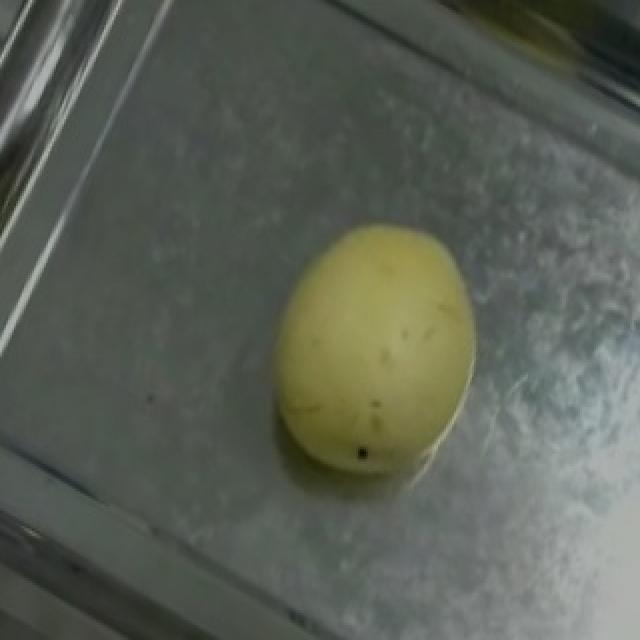Fruit: (220, 179, 526, 521)
